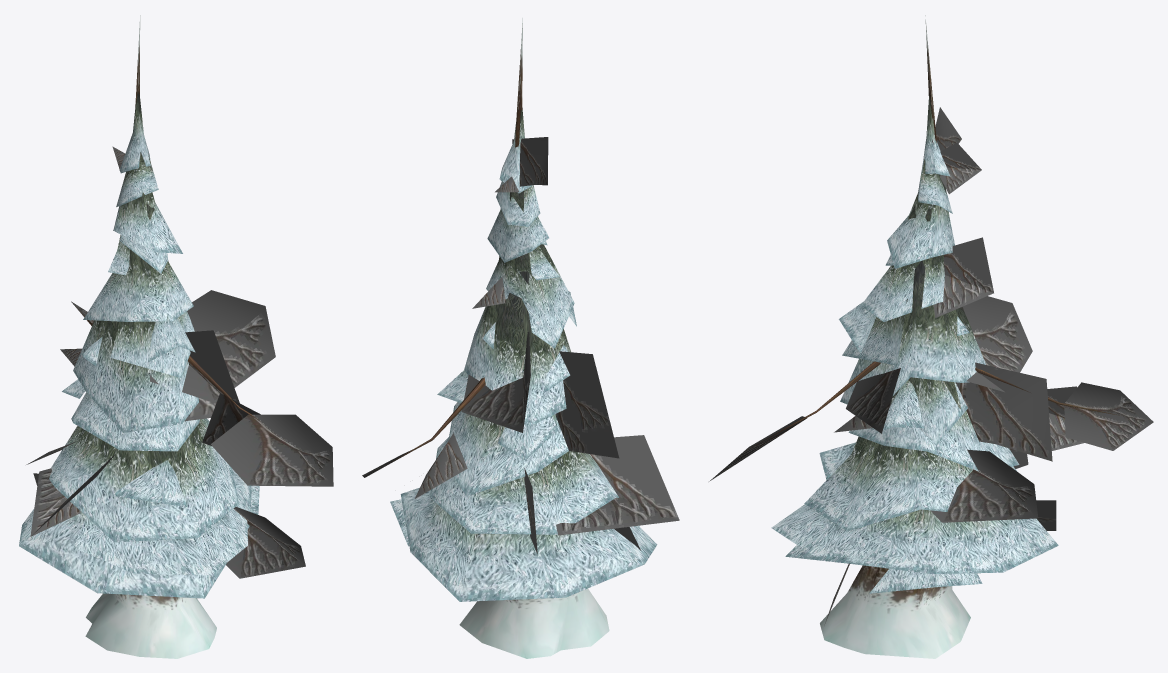
Rendered from snowtree.glb.
The picture shows the model from 3 angles, left to right: view 1: azimuth 30°, elevation 25°; view 2: azimuth 150°, elevation 25°; view 3: azimuth 270°, elevation 25°; orthographic projection. The views are drawn at different scales.
Visible parts, largest first — view 1: grizzlyhills_tree07_Geoset2, grizzlyhills_tree07_Geoset1, grizzlyhills_tree07_Geoset0; view 2: grizzlyhills_tree07_Geoset2, grizzlyhills_tree07_Geoset1, grizzlyhills_tree07_Geoset0; view 3: grizzlyhills_tree07_Geoset2, grizzlyhills_tree07_Geoset1, grizzlyhills_tree07_Geoset0.
Part boxes in pixels (left/top/right/bottom): grizzlyhills_tree07_Geoset2: left=19, top=92, right=259, bottom=598; grizzlyhills_tree07_Geoset1: left=26, top=146, right=333, bottom=578; grizzlyhills_tree07_Geoset0: left=80, top=15, right=260, bottom=658; grizzlyhills_tree07_Geoset2: left=390, top=108, right=657, bottom=601; grizzlyhills_tree07_Geoset1: left=362, top=137, right=679, bottom=553; grizzlyhills_tree07_Geoset0: left=389, top=18, right=609, bottom=658; grizzlyhills_tree07_Geoset2: left=771, top=95, right=1058, bottom=593; grizzlyhills_tree07_Geoset1: left=709, top=107, right=1153, bottom=625; grizzlyhills_tree07_Geoset0: left=747, top=15, right=1121, bottom=658.
Bounding box in the file's own units: 11.24 × 25.36 × 16.62.
3 materials, 3 textured.
